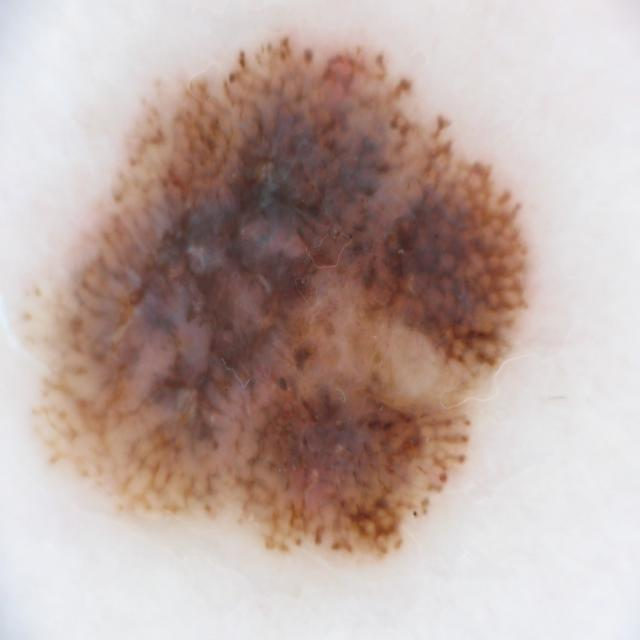Benign: (24, 31, 532, 565)
